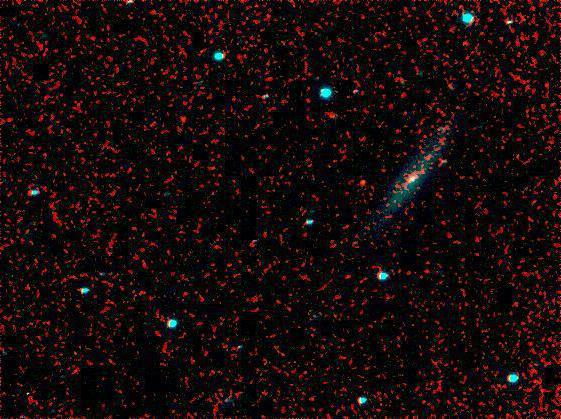star: (346, 168, 376, 198)
